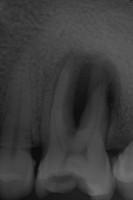Dental Caries: (45, 45, 121, 126)
